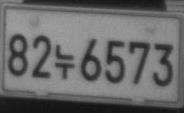2: (31, 34, 51, 78)
3: (152, 42, 174, 87)
5: (103, 39, 126, 83)
6: (79, 37, 102, 82)
7: (128, 40, 151, 84)
8: (6, 32, 28, 76)
누: (53, 43, 76, 80)
